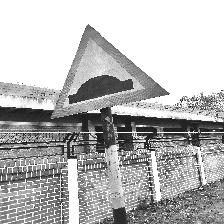Speed-breaker: (50, 24, 171, 118)
